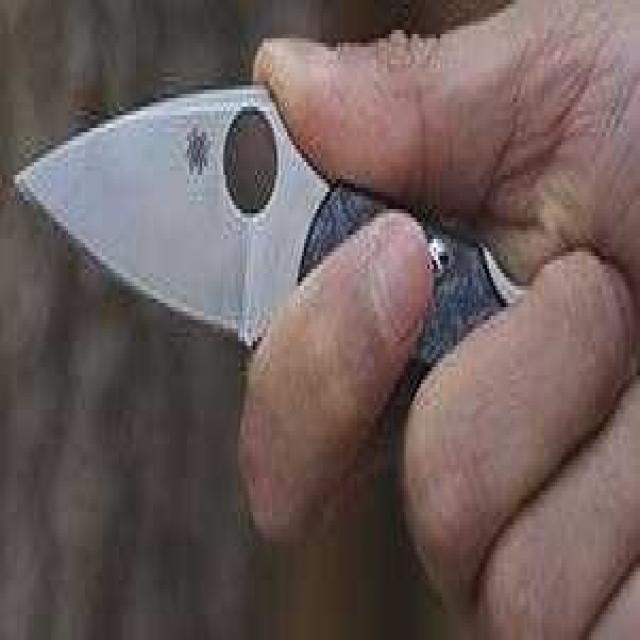knife: (1, 70, 554, 413)
